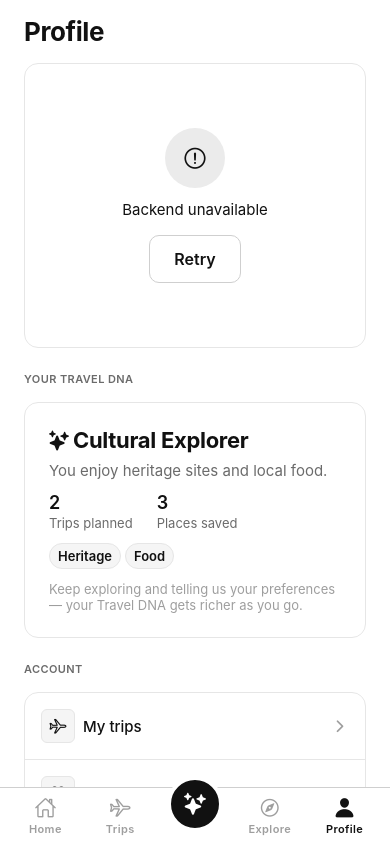
Test case: ProfileScreen › shows a typed error state with retry when loading fails
Expected: the text "Backend unavailable" is shown, [122,200,268,219]
What coordinates should you click on to do the following:
click the button "Retry"
I would click on:
 (195, 259)
Its box is [149,235,241,283].
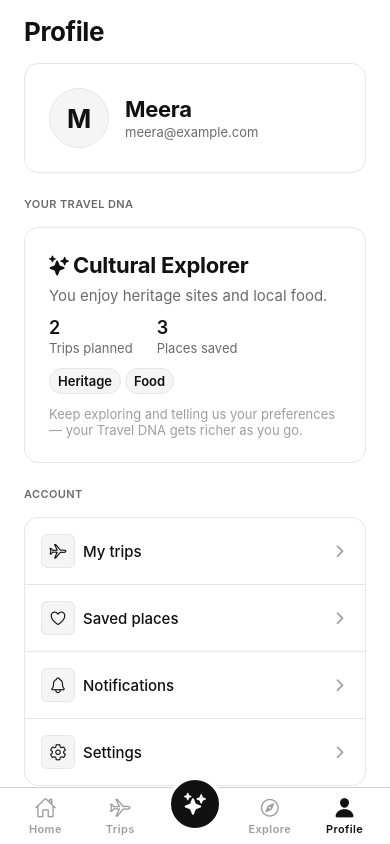
Expected: the element with test id "profile-success" is shown, [24,63,366,173]
